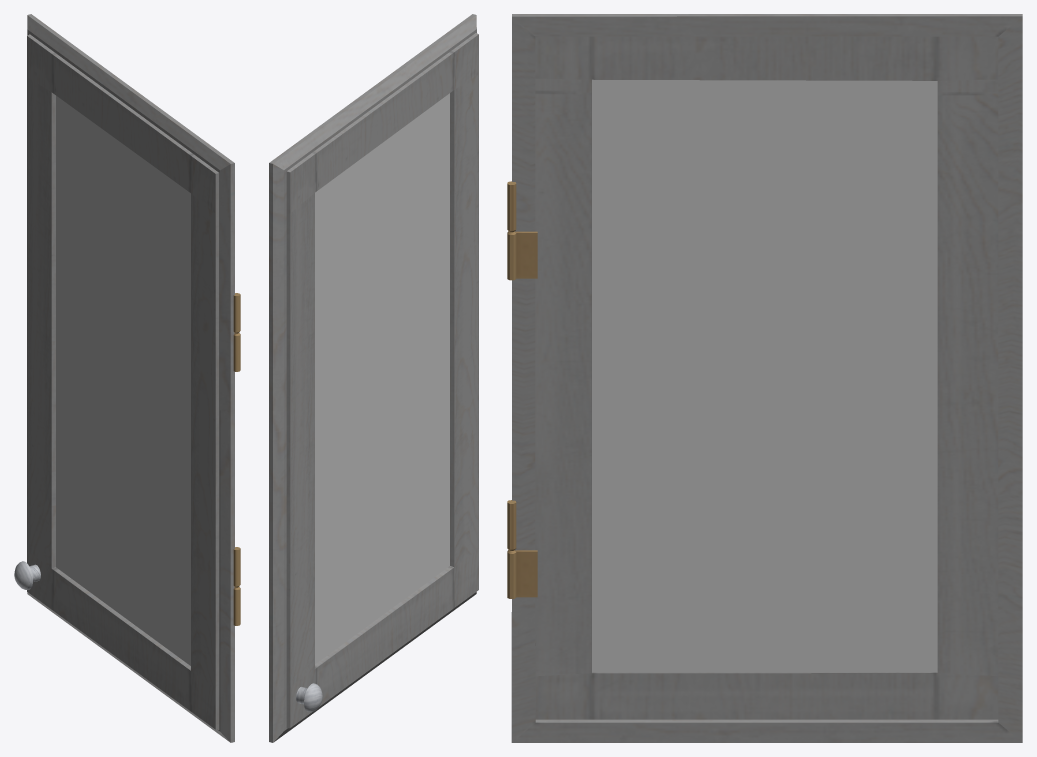
File: SM_Cabinet_D1_Door2.fbx
3 renders of one model, left to right at view 1: azimuth 30°, elevation 25°; view 2: azimuth 150°, elevation 25°; view 3: azimuth 270°, elevation 25°, orthographic. The views are drawn at different scales.
Parts seen in each view (by area): view 1: SM_Cabinet_D1_Door2; view 2: SM_Cabinet_D1_Door2; view 3: SM_Cabinet_D1_Door2.
Boxes of the visible parts, x1,y1,x2,y2 form: SM_Cabinet_D1_Door2: (14, 14, 240, 742); SM_Cabinet_D1_Door2: (269, 14, 478, 742); SM_Cabinet_D1_Door2: (507, 14, 1022, 742).
Size of the model in its own units: 4.35 by 40.6 by 63.13.
Materials: 4 (3 with a texture image).
